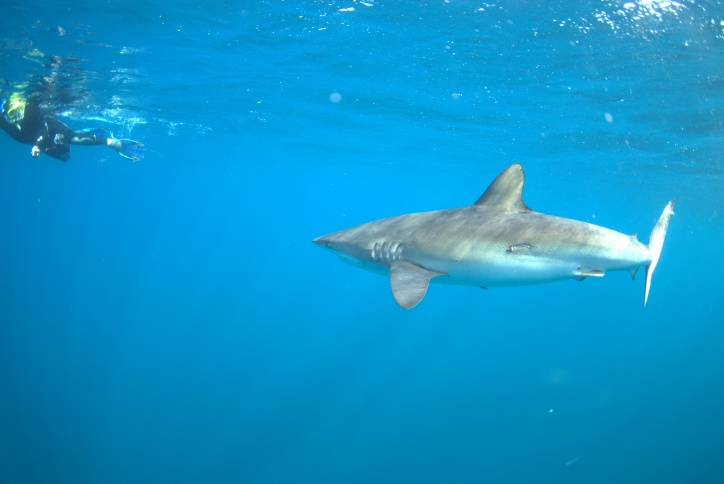Sedoso: (295, 159, 687, 326)
